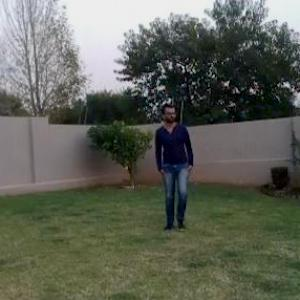follow: (151, 96, 198, 233)
